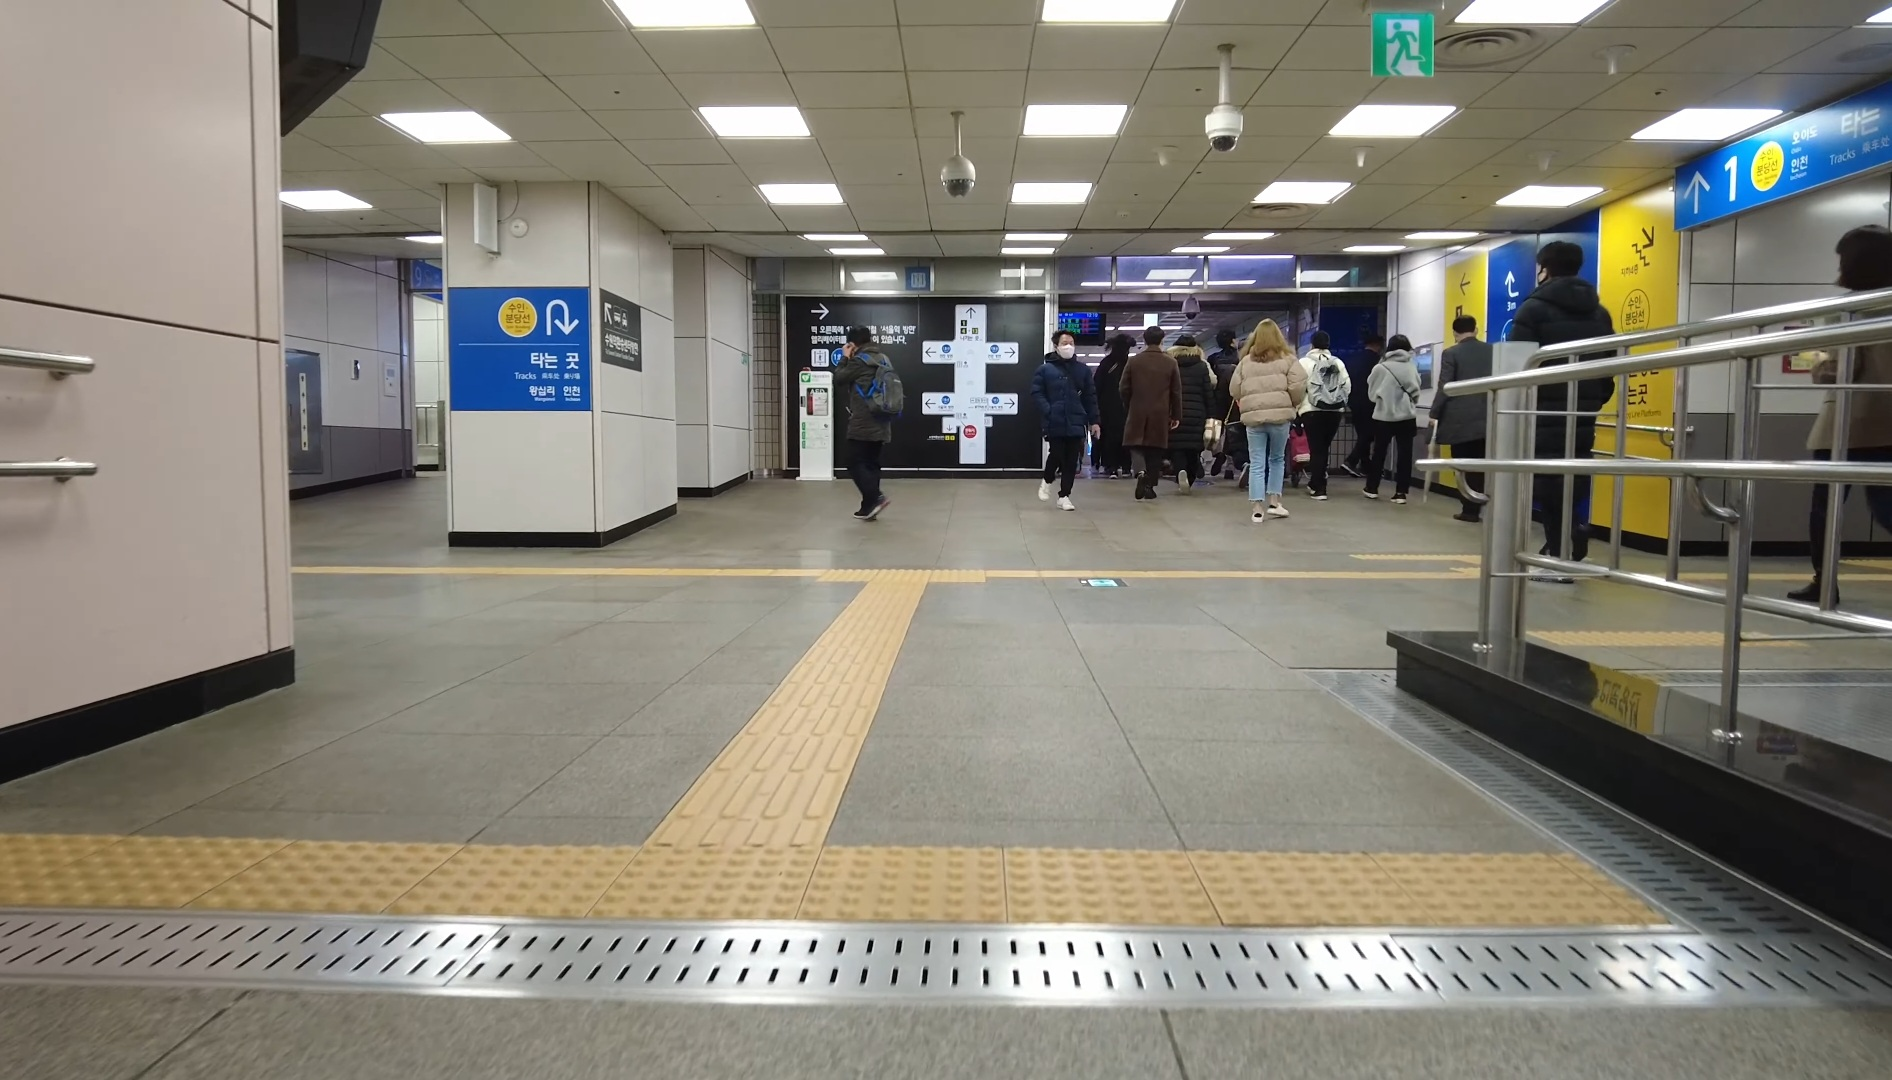guideBlock: (699, 776, 825, 853), (745, 739, 839, 788), (790, 690, 868, 743), (772, 711, 860, 750)
warningBlock: (1195, 843, 1410, 927), (999, 842, 1199, 927), (1416, 842, 1609, 925), (817, 847, 1004, 927), (238, 837, 411, 915), (621, 853, 797, 925), (421, 853, 602, 914), (130, 834, 229, 918), (10, 834, 125, 905)
